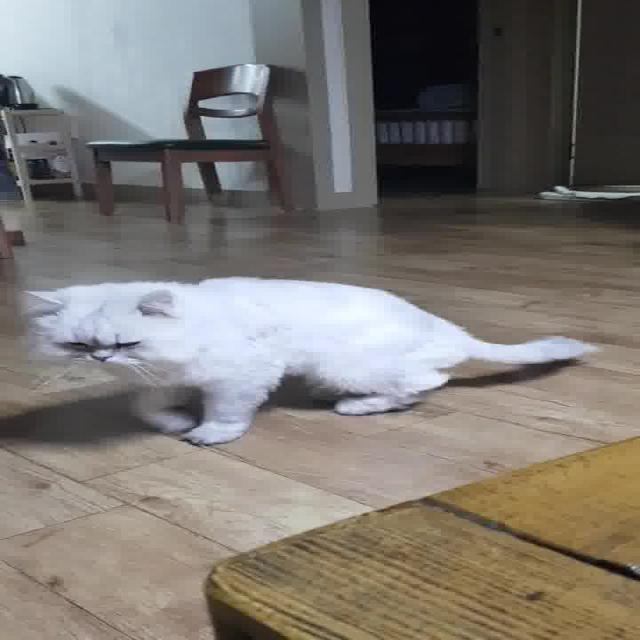cat: (18, 268, 610, 446)
